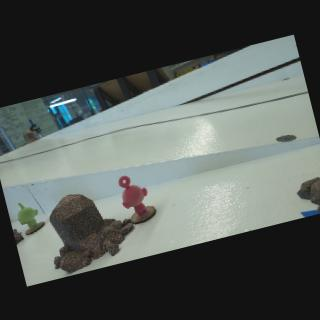teletubby: (118, 175, 147, 217), (17, 202, 37, 229)
